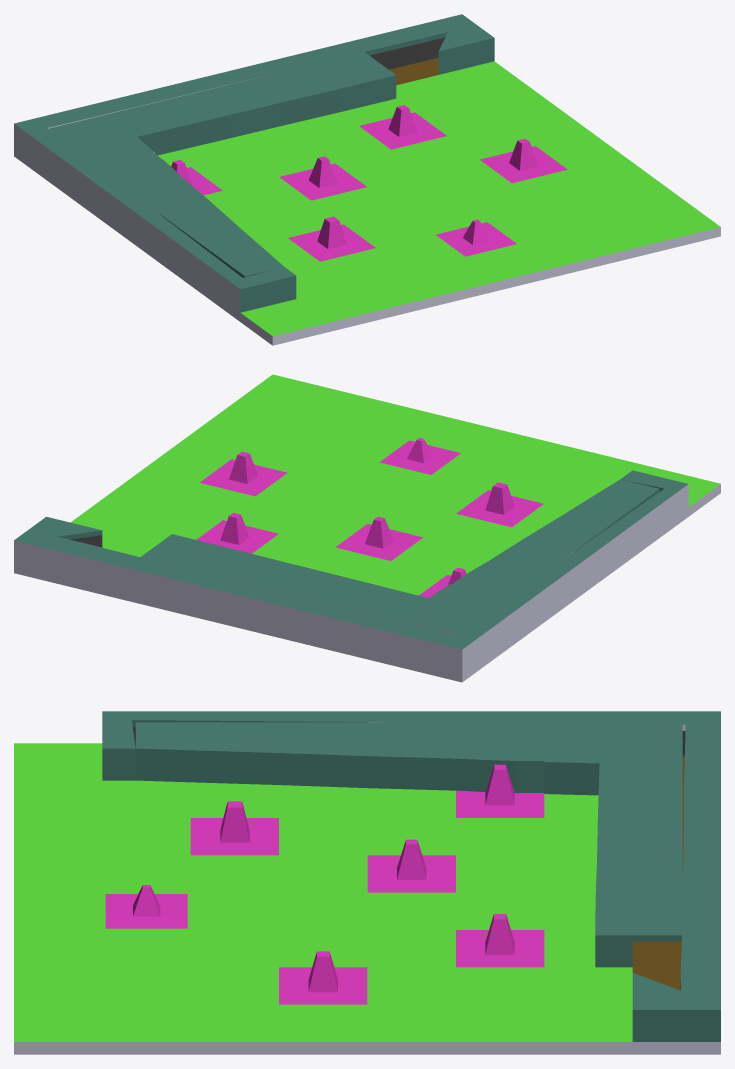
Rendered from simpleWorld.glb.
3 renders of one model, top to bottom at view 1: azimuth 30°, elevation 25°; view 2: azimuth 150°, elevation 25°; view 3: azimuth 270°, elevation 25°, orthographic. The views are drawn at different scales.
Visible parts, largest first — view 1: Cube; view 2: Cube; view 3: Cube.
Boxes of the visible parts, x1=… form: Cube: x1=14, y1=14, x2=720, y2=345; Cube: x1=14, y1=374, x2=720, y2=682; Cube: x1=14, y1=711, x2=720, y2=1054.
Bounding box in the file's own units: 100 × 7 × 100.
